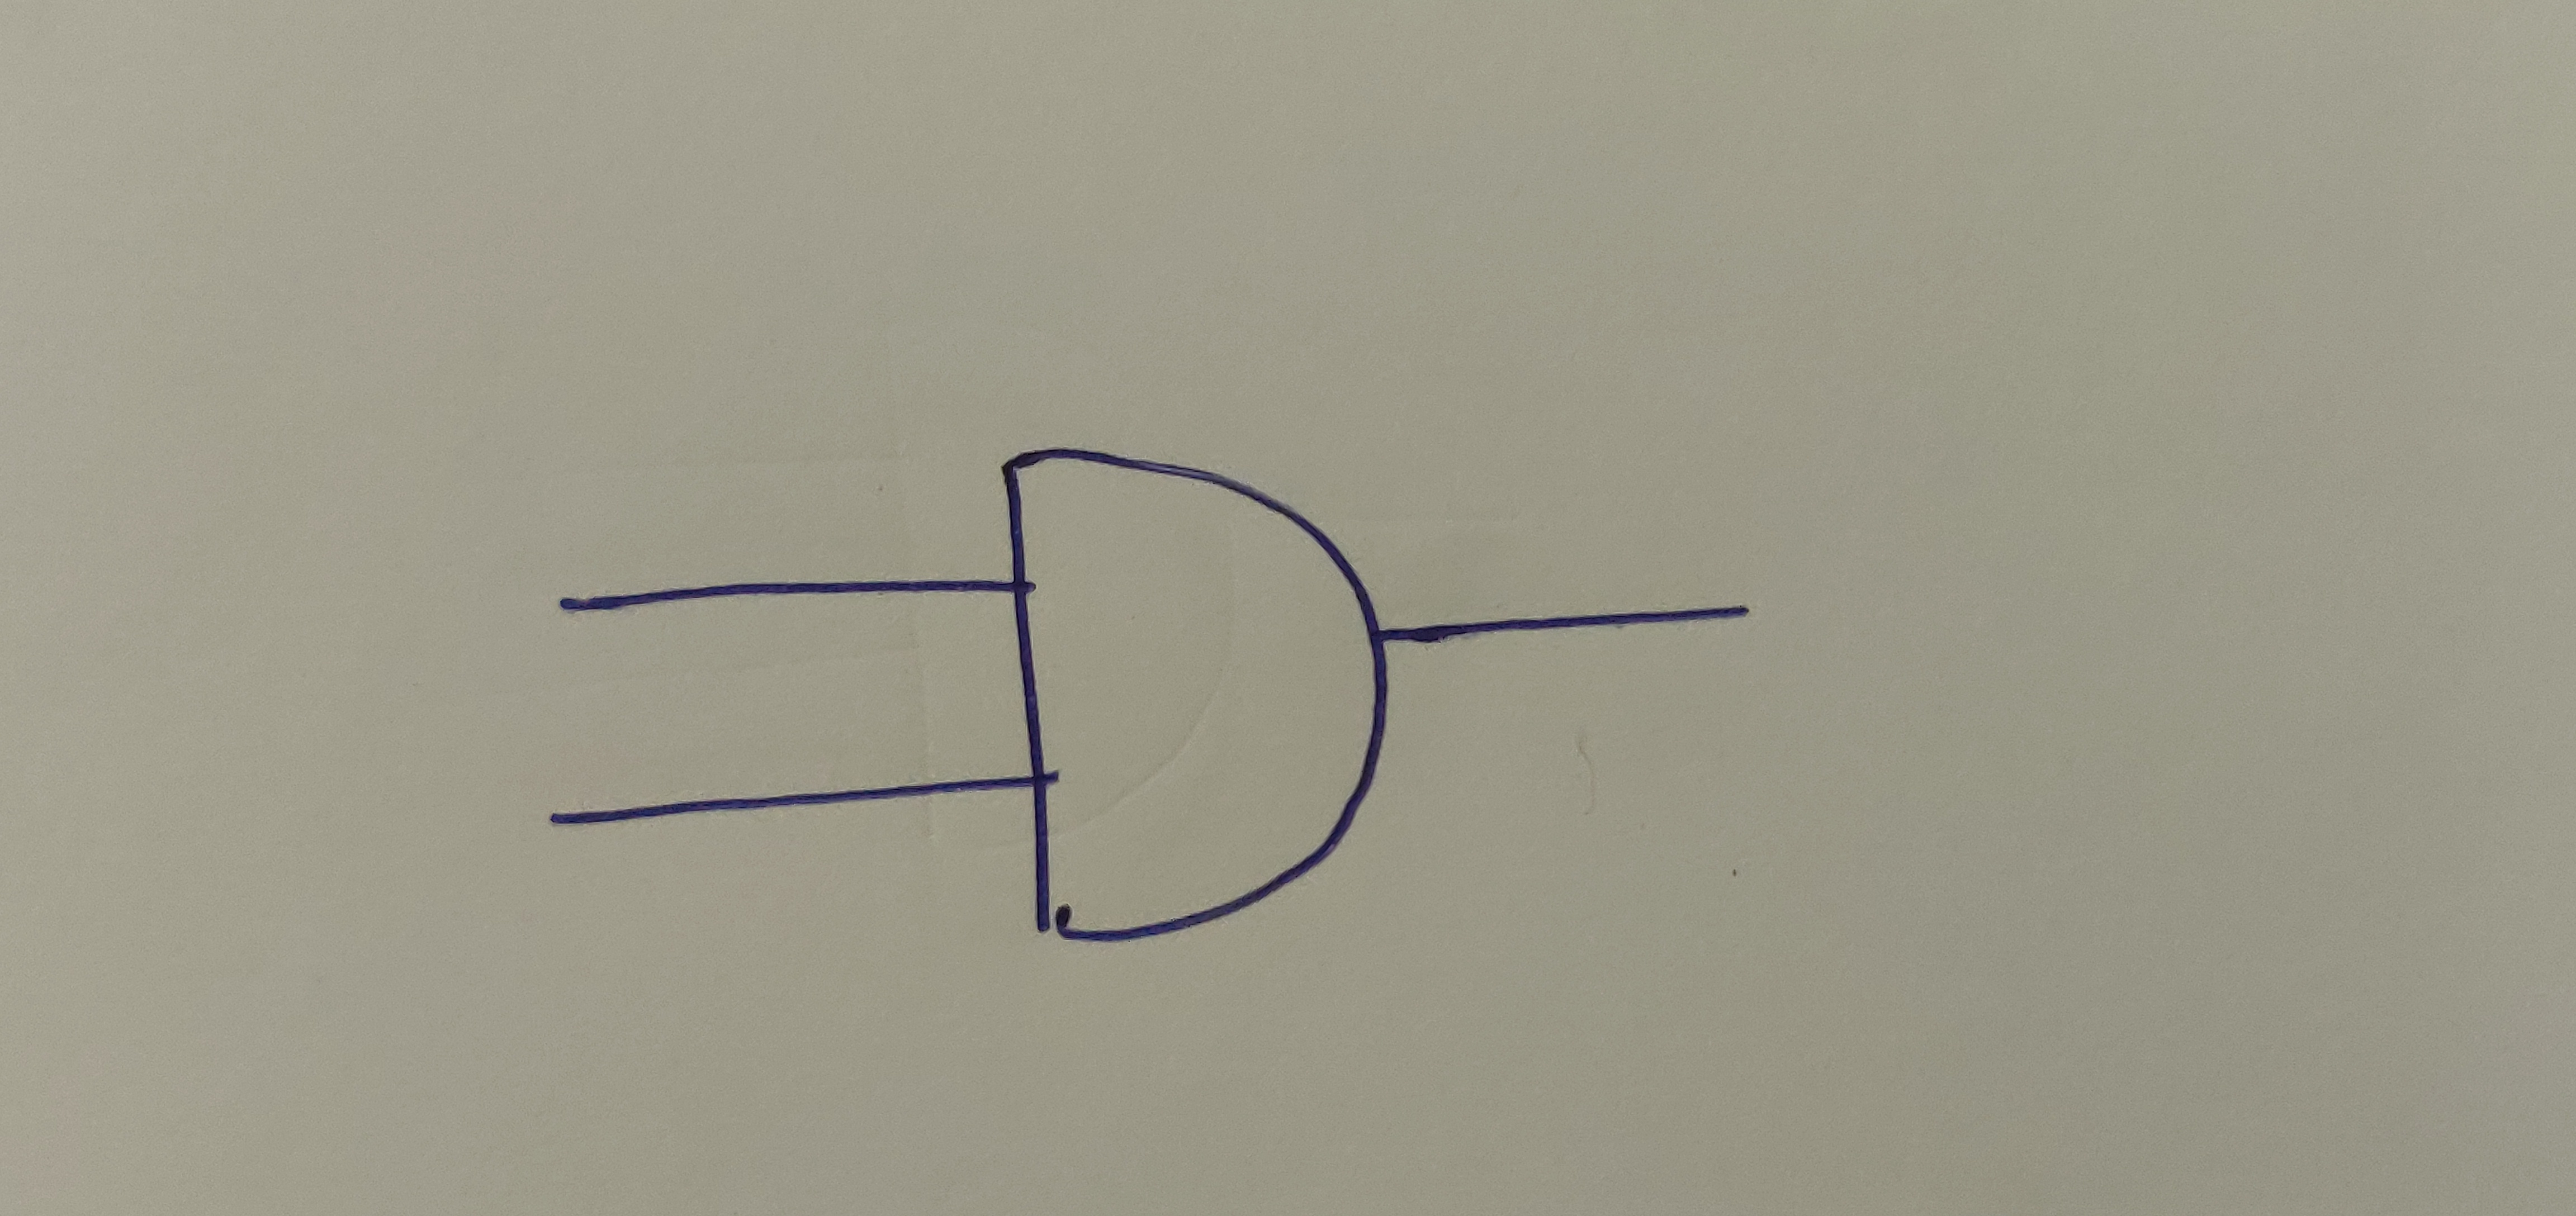and: (994, 445, 1398, 955)
